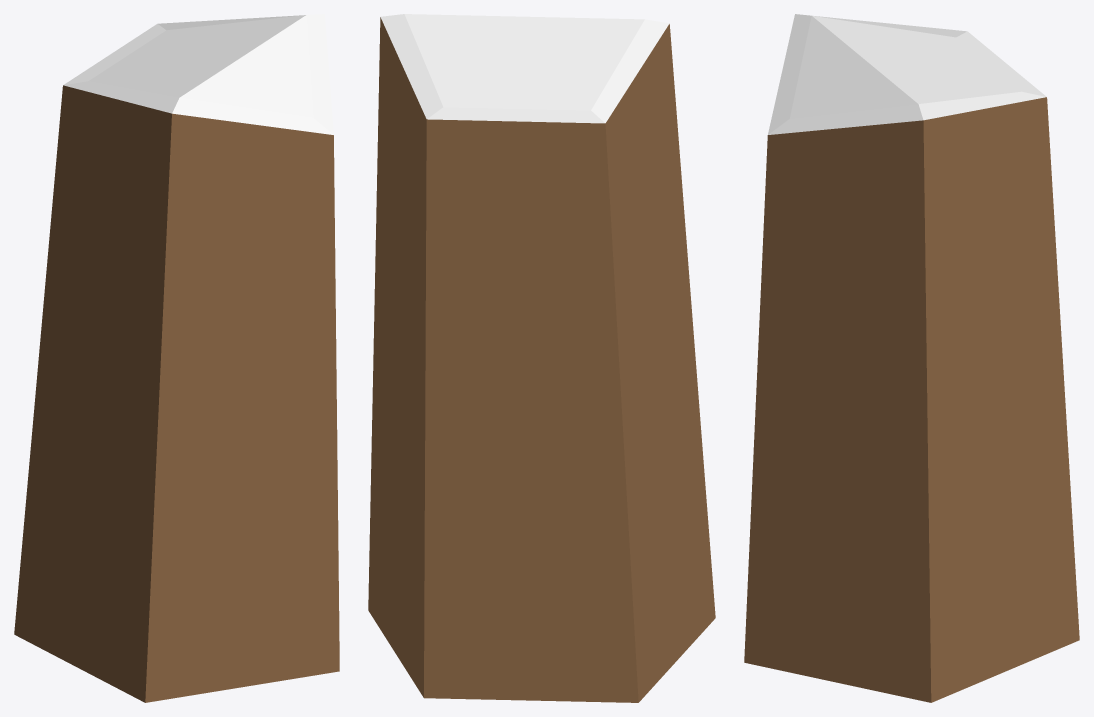
The model's file is Fir_Stump_Snow_01.fbx.
3 views of the same model, side by side, from view 1: azimuth 30°, elevation 25°; view 2: azimuth 150°, elevation 25°; view 3: azimuth 270°, elevation 25° (orthographic). The views are drawn at different scales.
Parts seen in each view (by area): view 1: Fir_Stump_Snow_01; view 2: Fir_Stump_Snow_01; view 3: Fir_Stump_Snow_01.
Boxes of the visible parts, left/top/right/bottom form: Fir_Stump_Snow_01: left=14, top=14, right=339, bottom=702; Fir_Stump_Snow_01: left=368, top=14, right=715, bottom=702; Fir_Stump_Snow_01: left=744, top=14, right=1079, bottom=702.
Bounding box in the file's own units: 45.72 × 87.9 × 45.72.
